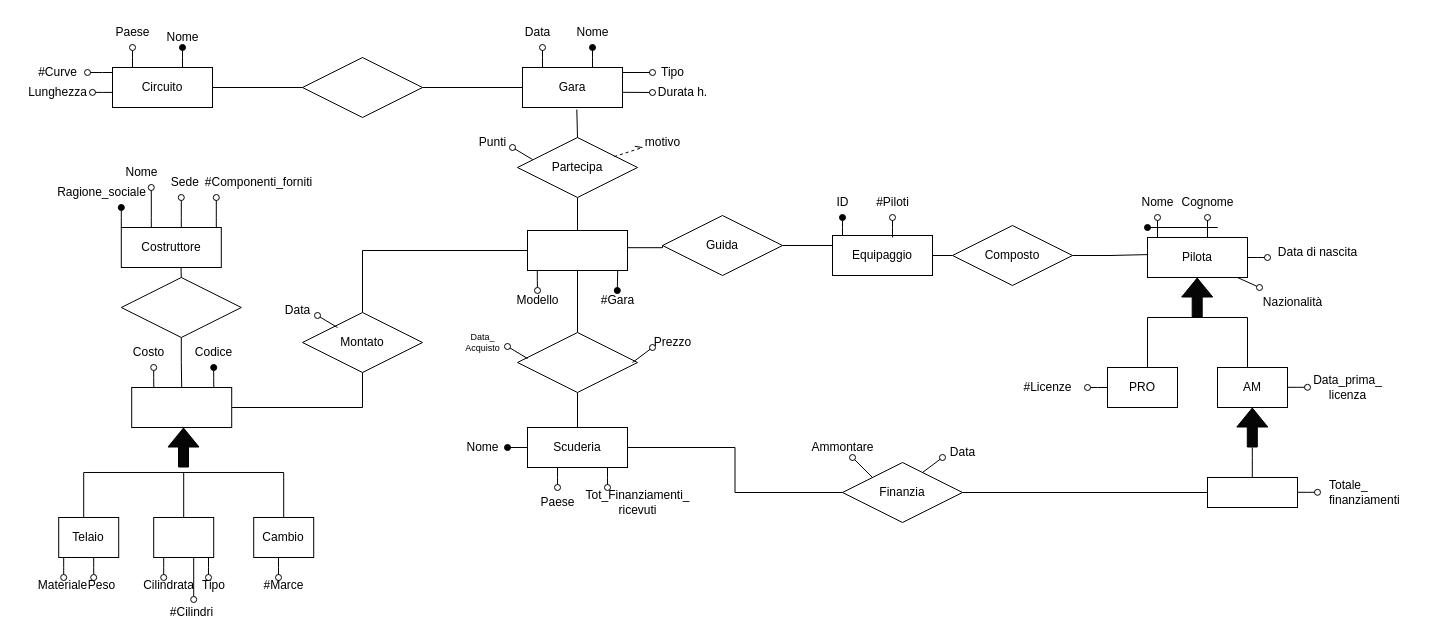
Some shapes in this 1434 by 644 pixel diagram are drawn without their labels. Here are the shapes that lost their labels. From the top down, the centre of each, then its label:
At (362,87): "Si svolge".
At (577,250): "Vettura".
At (180,307): "Costruisce".
At (577,362): "Gestisce".
At (181,407): "Componente".
At (1252,492): "Gentleman Driver".
At (183,537): "Motore".
